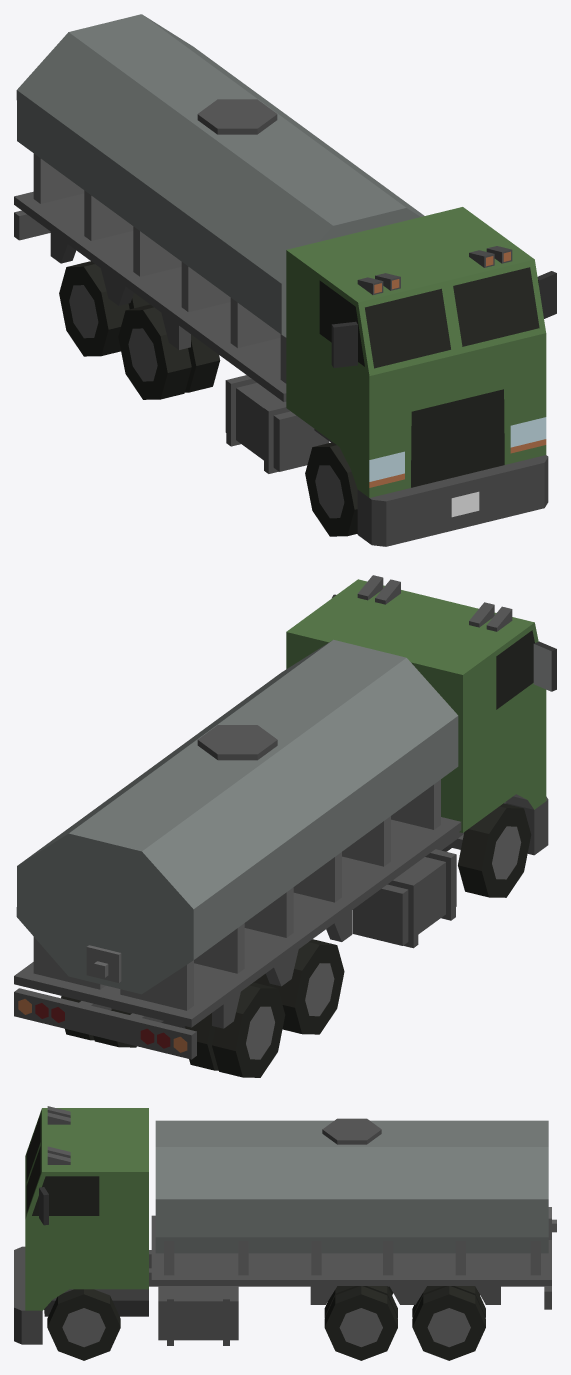
Rendered from Veh_Truck_03_Tank_Green.glb.
3 views of the same model, one above another, from view 1: azimuth 30°, elevation 25°; view 2: azimuth 150°, elevation 25°; view 3: azimuth 270°, elevation 25° (orthographic). The views are drawn at different scales.
Parts seen in each view (by area): view 1: Truck_03_Green, Wheel_RR1, Wheel_RR2, Wheel_FR; view 2: Truck_03_Green, Wheel_RR2, Wheel_FR, Wheel_RR1; view 3: Truck_03_Green, Wheel_RL1, Wheel_RL2, Wheel_FL.
Part boxes in pixels (x1,y1,x2,y2): Truck_03_Green: (14, 14, 556, 546); Wheel_RR1: (118, 304, 220, 399); Wheel_RR2: (59, 261, 149, 356); Wheel_FR: (305, 442, 357, 536); Truck_03_Green: (14, 575, 556, 1059); Wheel_RR2: (185, 982, 285, 1077); Wheel_FR: (458, 803, 531, 897); Wheel_RR1: (253, 939, 344, 1034); Truck_03_Green: (14, 1106, 556, 1345); Wheel_RL1: (324, 1286, 397, 1360); Wheel_RL2: (412, 1286, 485, 1360); Wheel_FL: (47, 1289, 120, 1360).
Size of the model in its own units: 1.68 by 1.94 by 4.78.
Materials: 1 (1 with a texture image).
